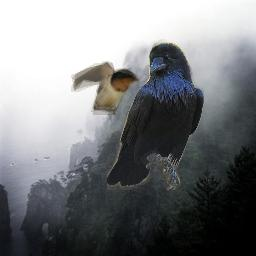Crow: (107, 42, 204, 190)
Swallow: (71, 61, 139, 115)
